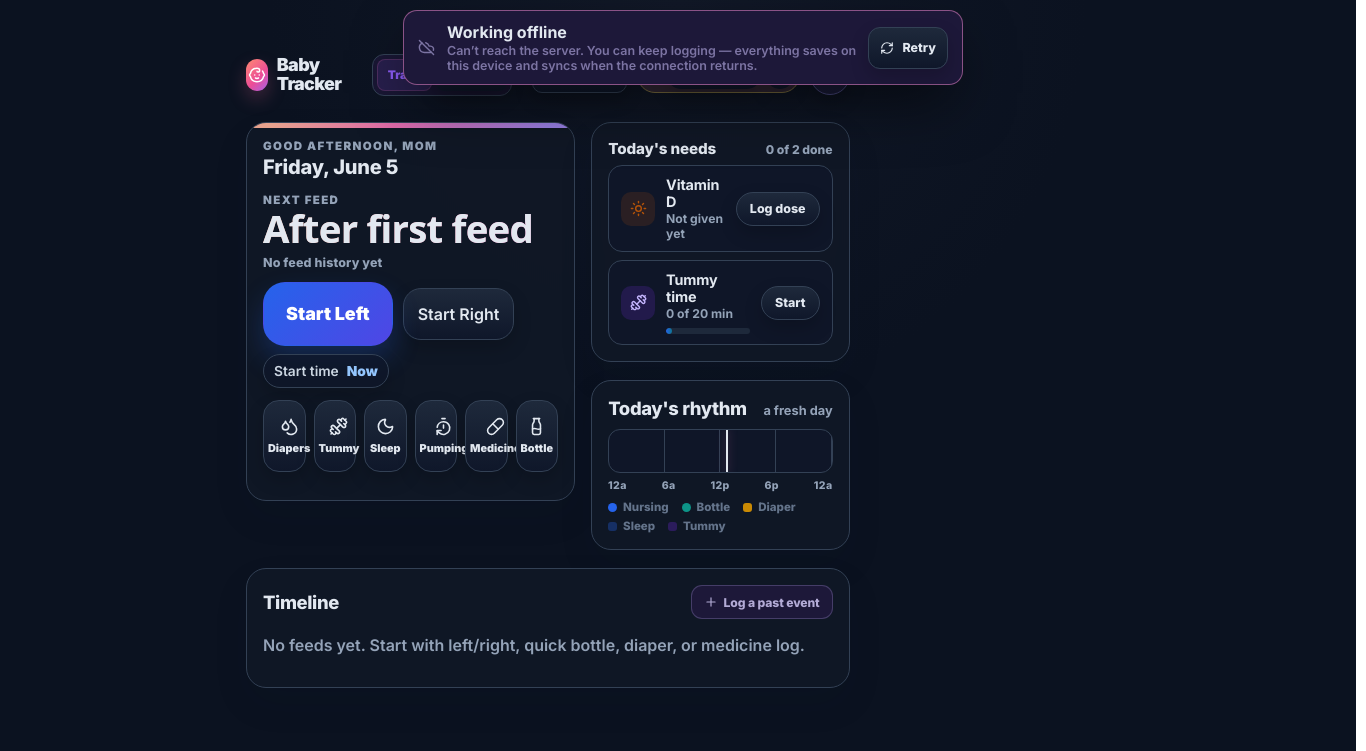
Test: App interactions › starts a session from a typed clock time and shows elapsed minutes
Expected: the field labelled "Session start time" is not shown
Click the button with aria-label "Adjust start time" at (326, 371), box [263,354,389,388]
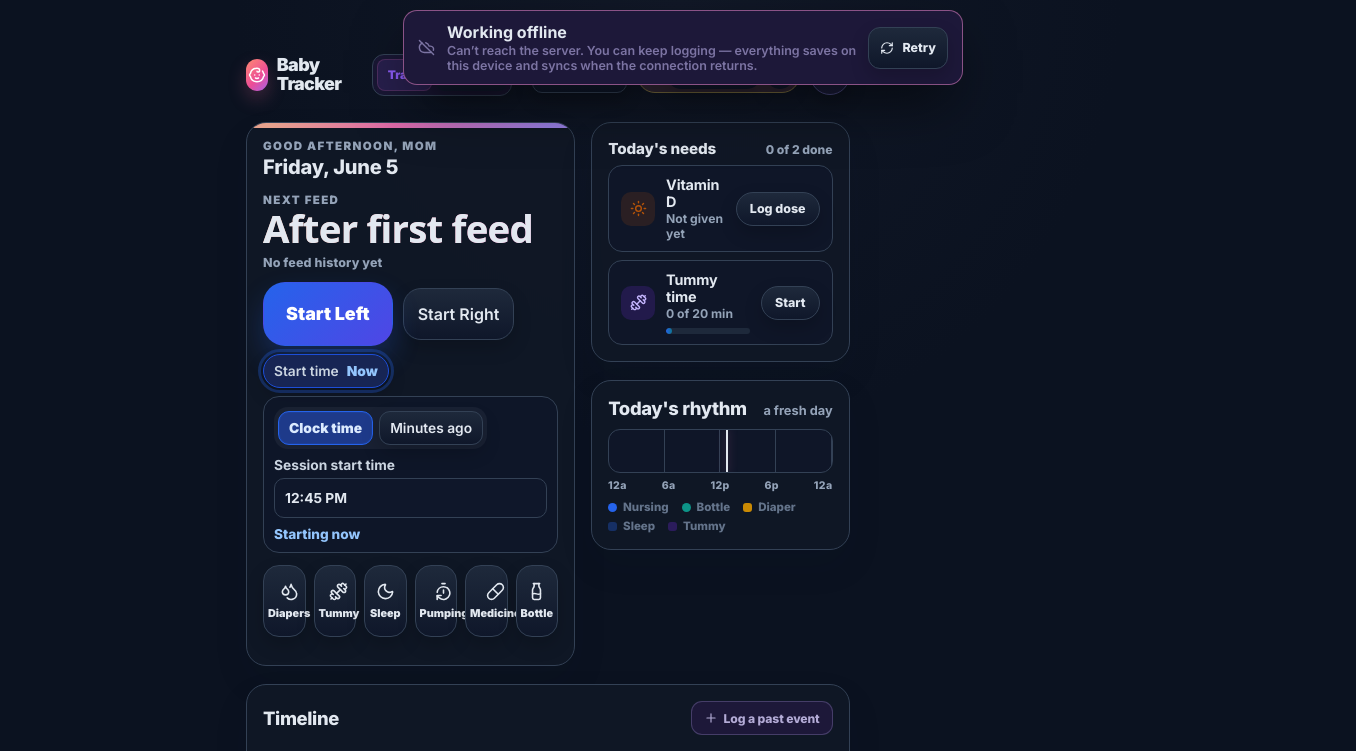
Result: the field labelled "Session start time" holds "12:45 PM"
Replace the text in the field labelled "Session start time" with "12:30pm" at (410, 498), box [274,478,547,518]
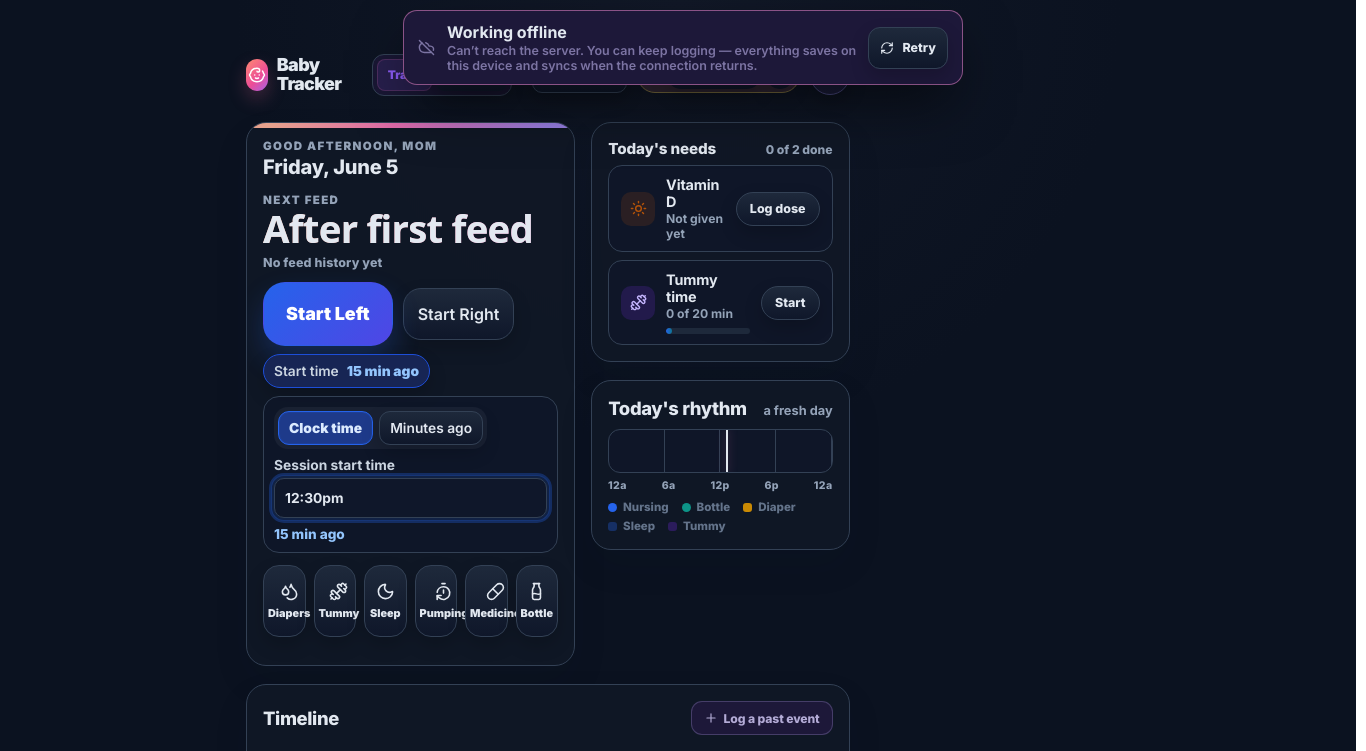
Result: the 1st text "15 min ago" is shown at [347,363,419,379]
Click the button with aria-label "Start suggested side: Left" at (328, 314), box [263,282,393,346]
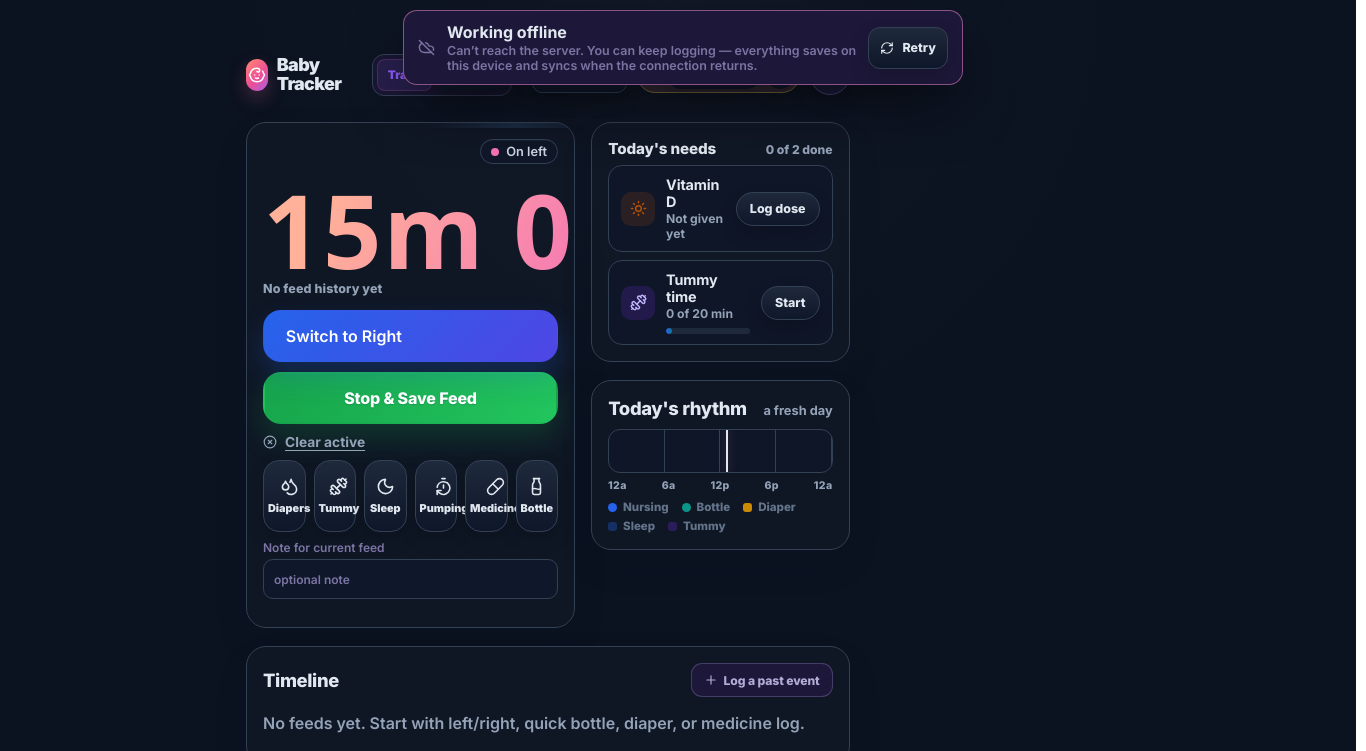
Result: the text "15m 00s" is shown at [263,185,575,275]
